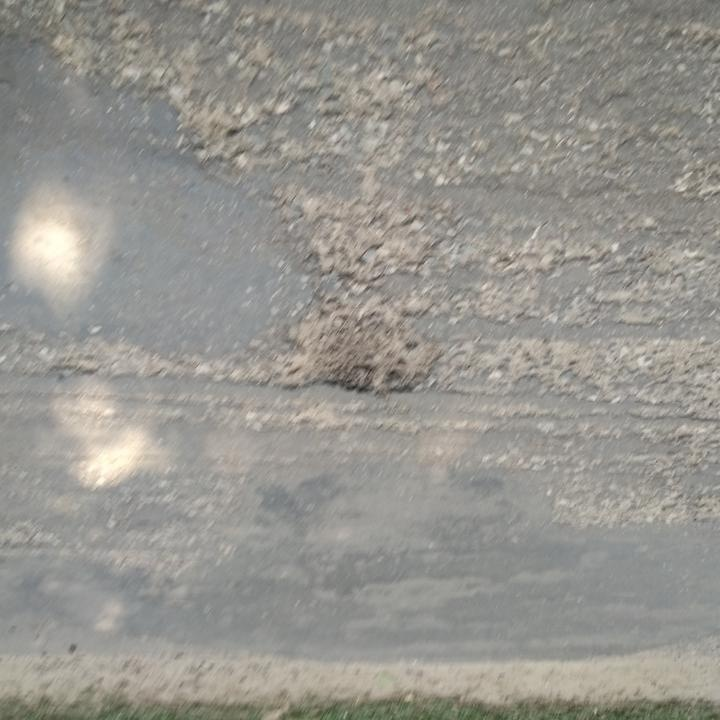pothole: (273, 294, 440, 403)
